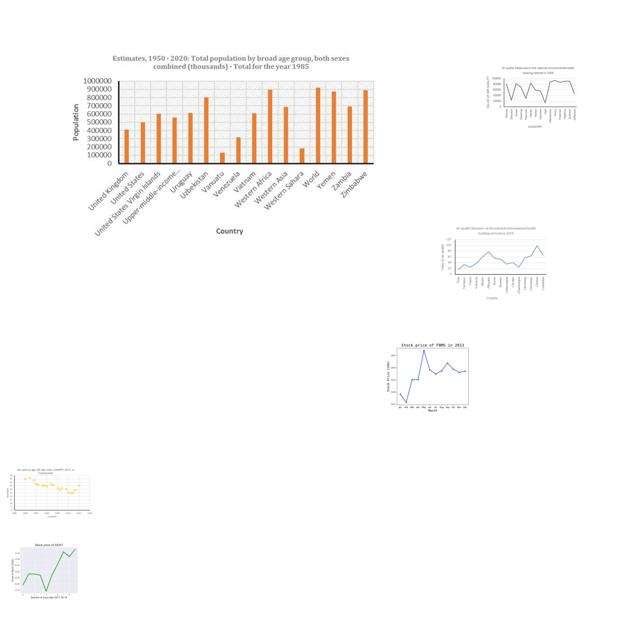Graph: (66, 49, 378, 238), (438, 224, 548, 302), (382, 339, 481, 413), (484, 64, 579, 131), (8, 540, 88, 600), (5, 467, 93, 519)
